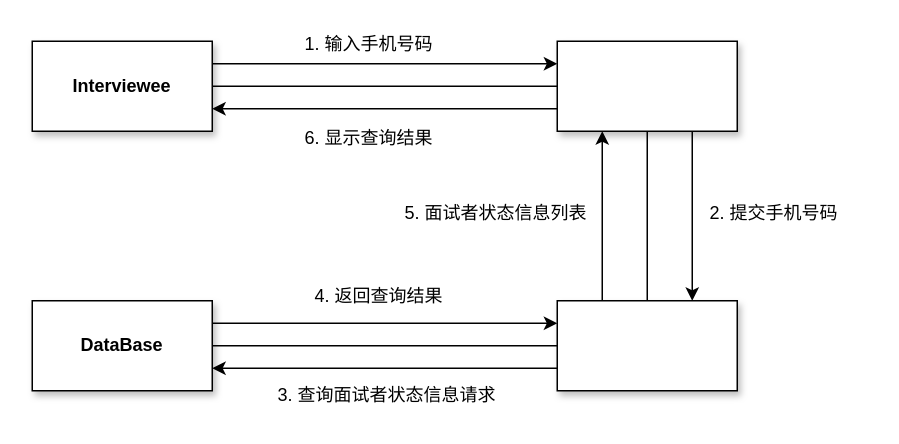
Some shapes in this 899 by 444 pixel diagram are drawn without their labels. Each missing label, with the centre of its shape:
"Controller" goes at point 648,347.
"QueryWindow" goes at point 648,88.
